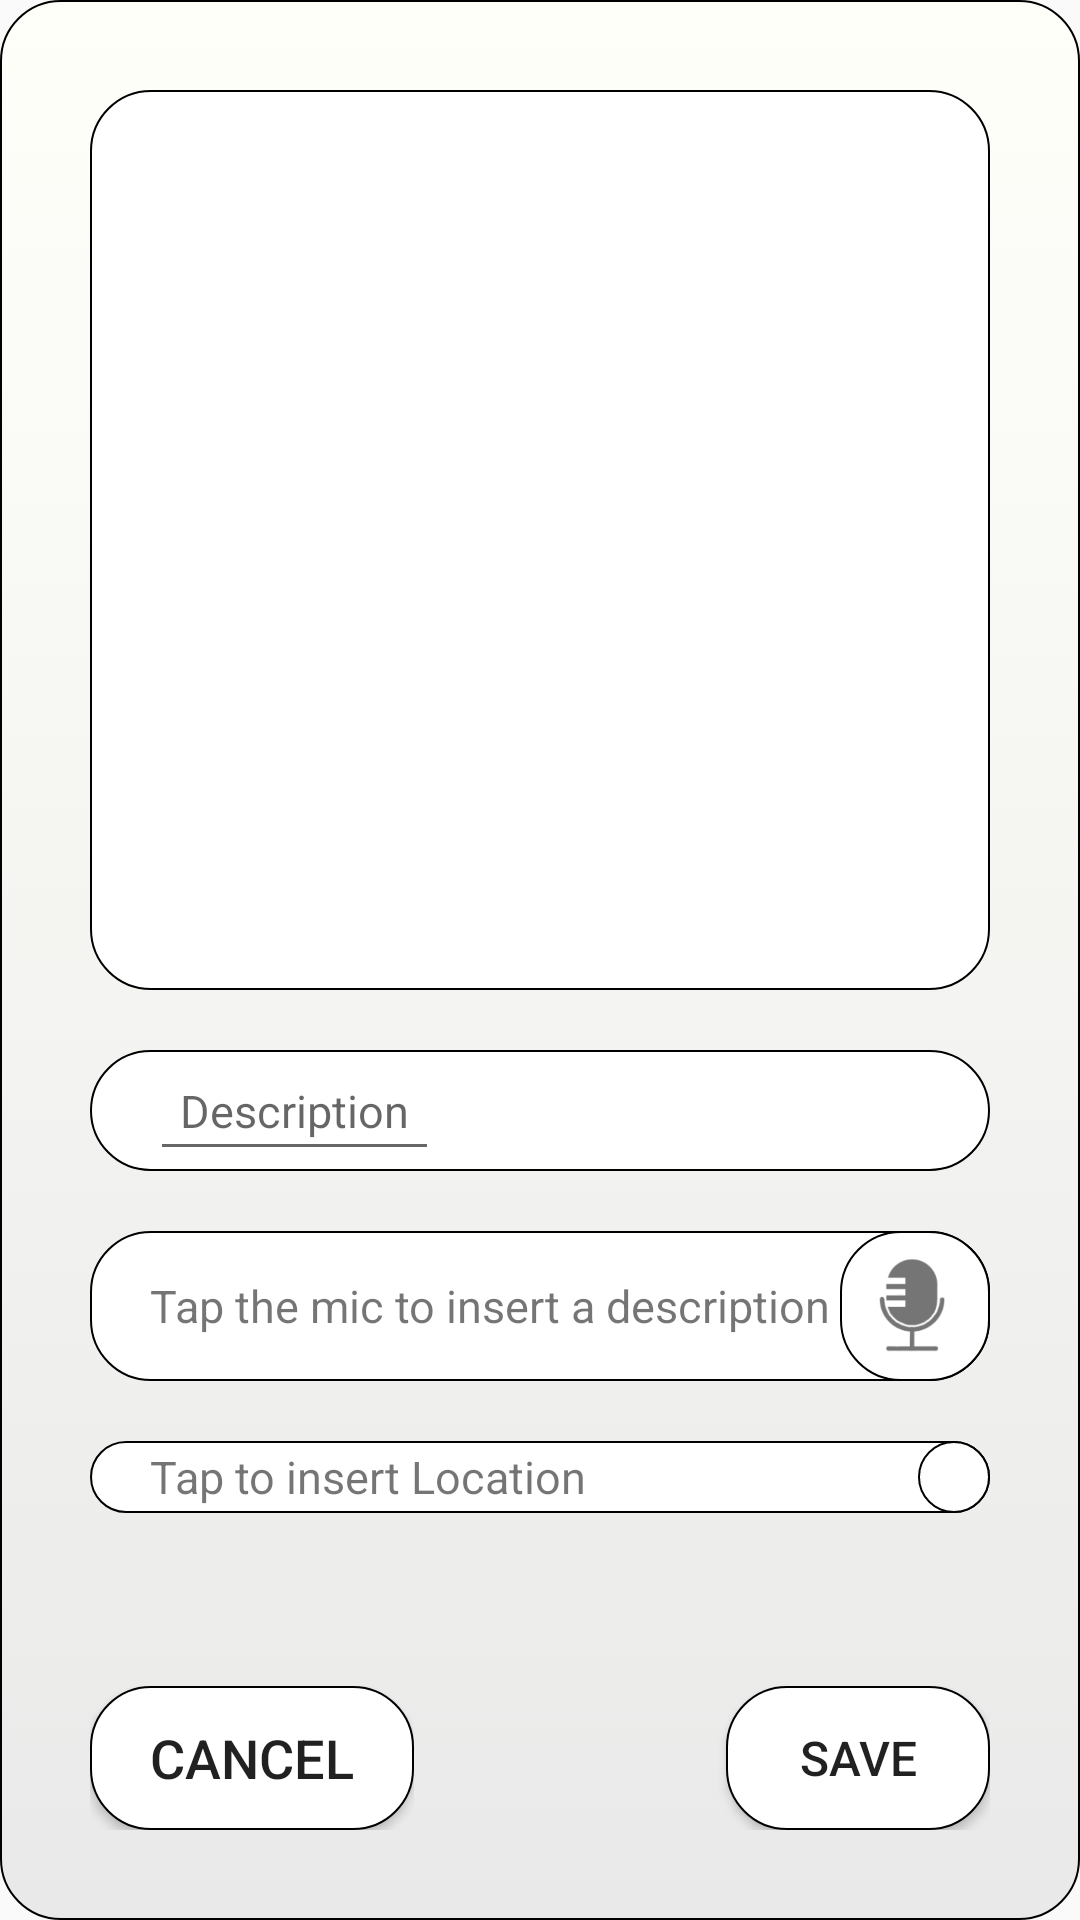

Screen size 1080x1920. Icon name, then its center in pixels as [x,y]:
microphone: [912,1305]
